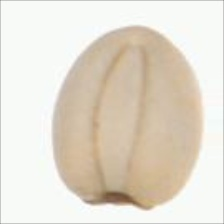L5: (87, 42, 150, 189), (73, 187, 158, 214)
L6: (50, 23, 207, 217)
